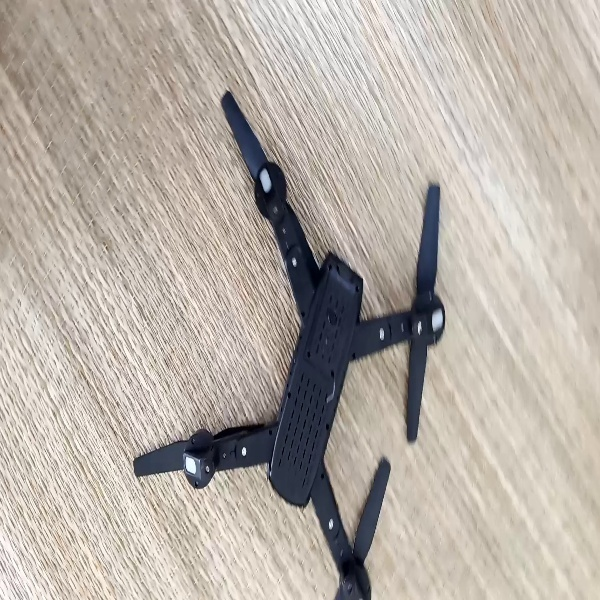drone: (129, 85, 454, 599)
